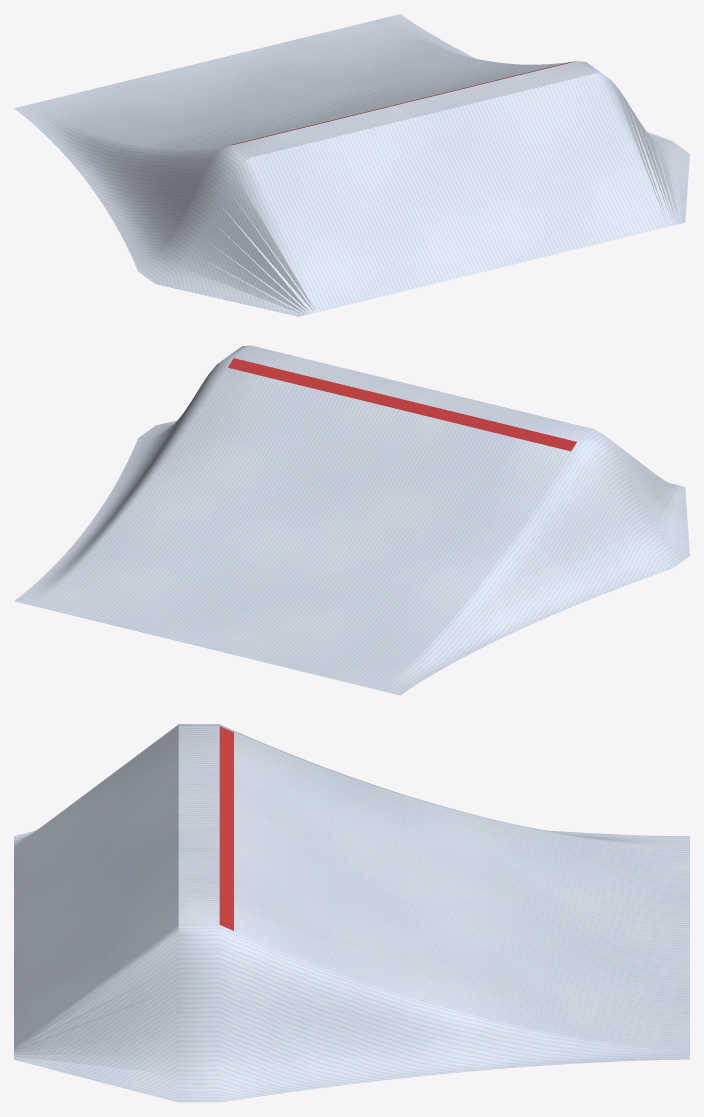
Rendered from SM_StepUp.glb.
3 renders of one model, top to bottom at view 1: azimuth 30°, elevation 25°; view 2: azimuth 150°, elevation 25°; view 3: azimuth 270°, elevation 25°, orthographic. The views are drawn at different scales.
Parts seen in each view (by area): view 1: SM_StepUp; view 2: SM_StepUp, Lip; view 3: SM_StepUp, Lip.
Part boxes in pixels (<box>): SM_StepUp: <box>14,14,689,316</box>; SM_StepUp: <box>14,345,689,695</box>; Lip: <box>228,358,576,451</box>; SM_StepUp: <box>14,724,689,1102</box>; Lip: <box>219,726,233,930</box>.
Size of the model in its own units: 6.22 by 1.15 by 5.75.
Materials: 2 (1 with a texture image).
